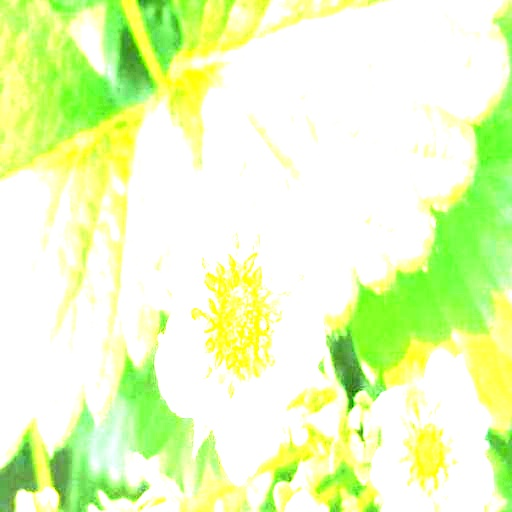Blossom Blight: (188, 225, 294, 405)
